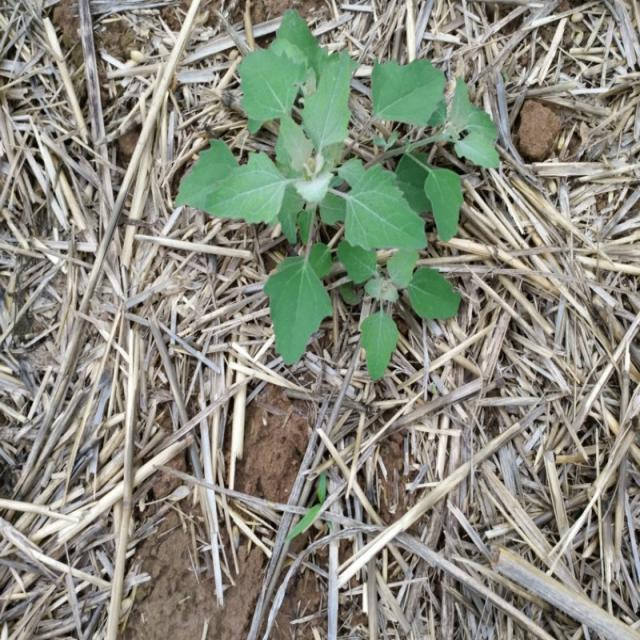goosefoots: (181, 16, 481, 383)
